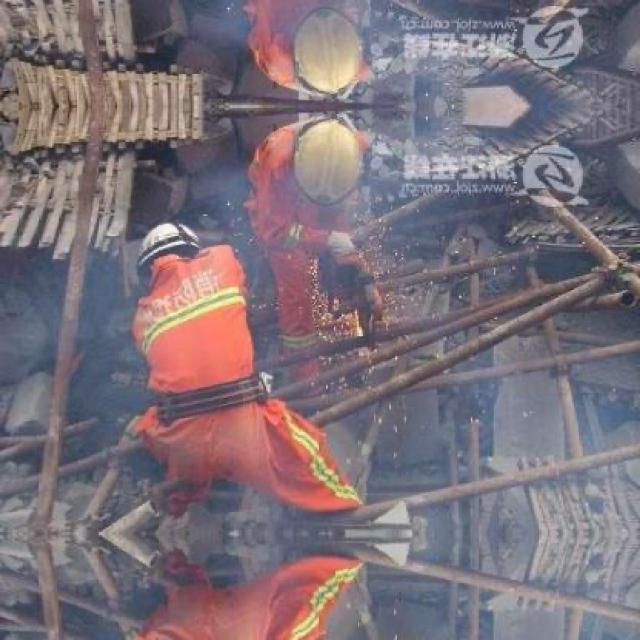helmet: (282, 125, 364, 208), (282, 5, 364, 88), (138, 220, 204, 286)
